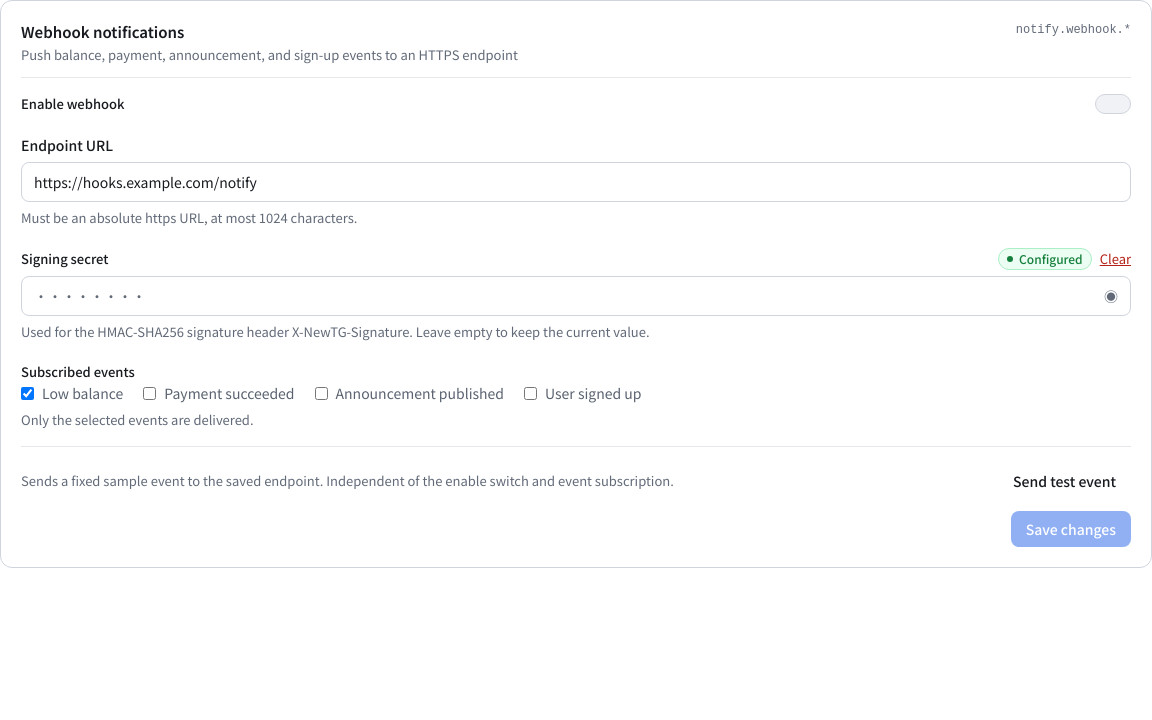
Webhook settings section › warns that an empty event subscription delivers nothing
This screenshot has width=1152, height=720.
expect the text "No events subscribed. Nothing will be delivered." is not shown: met
Click the checkbox labelled "Low balance" at (28, 393), box [21, 386, 34, 400]
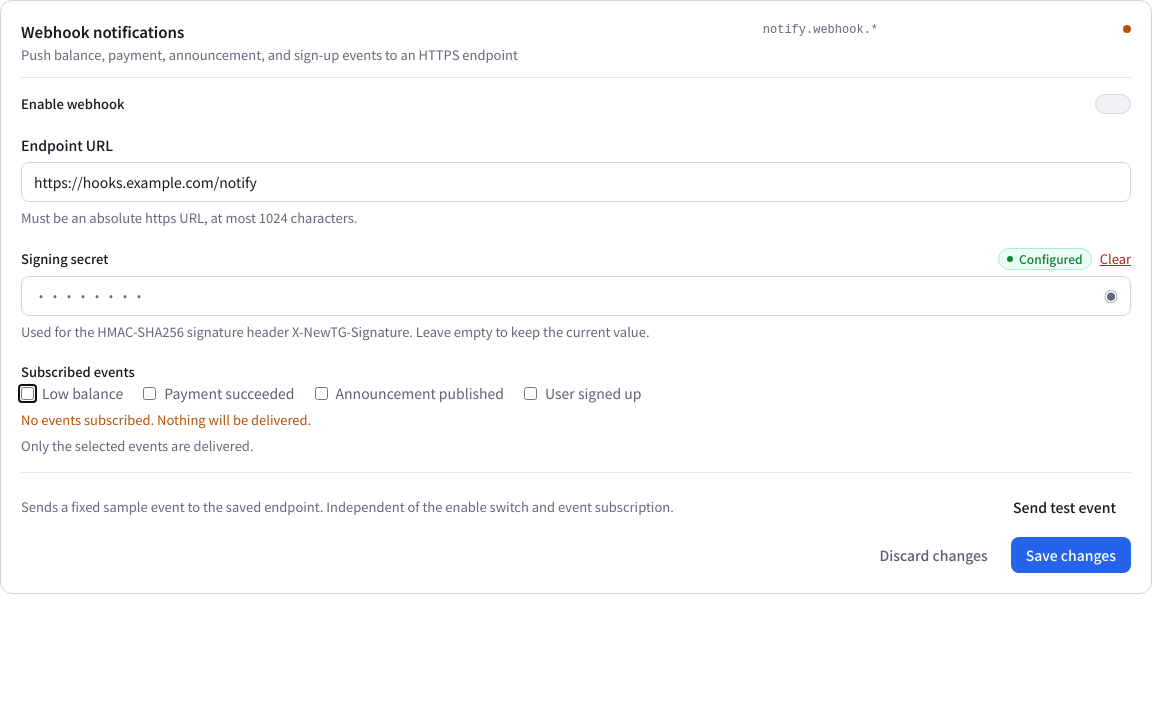
expect the text "No events subscribed. Nothing will be delivered." is shown: met, box [21, 410, 311, 429]
Click the checkbox labelled "Payment succeeded" at (150, 393), box [143, 386, 156, 400]
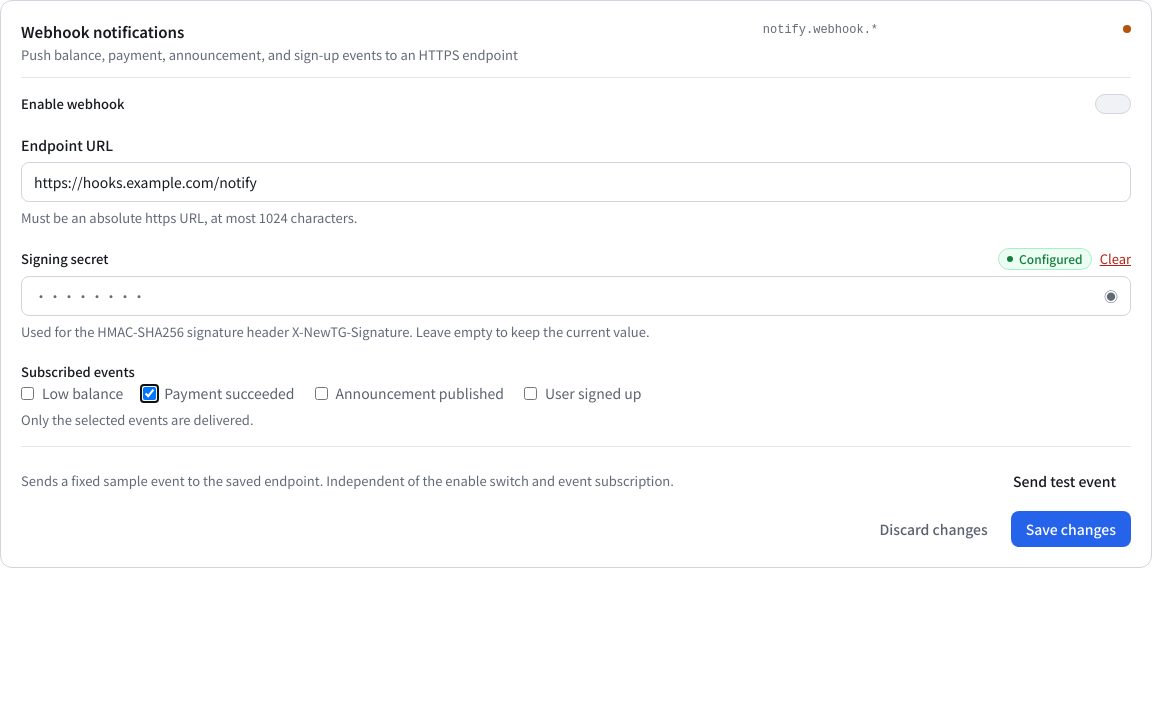
expect the text "No events subscribed. Nothing will be delivered." is gone: met
